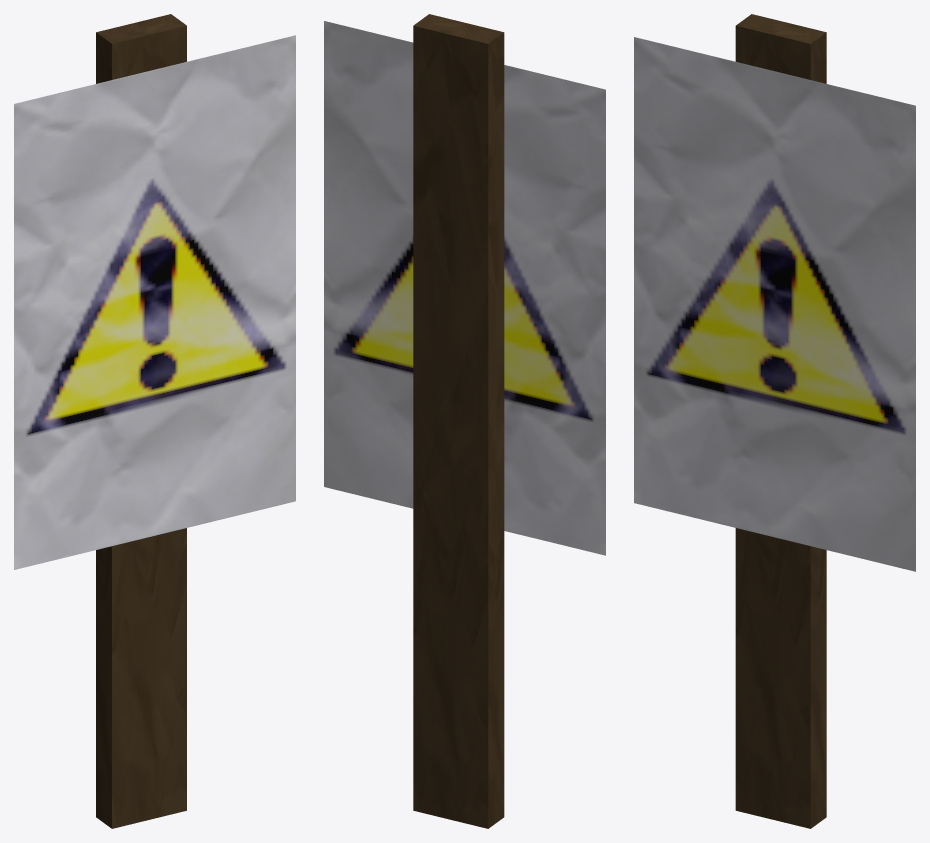
The model's file is sign.FBX.
The picture shows the model from 3 angles, left to right: view 1: azimuth 30°, elevation 25°; view 2: azimuth 150°, elevation 25°; view 3: azimuth 330°, elevation 25°; orthographic projection.
Visible parts, largest first — view 1: Box010; view 2: Box010; view 3: Box010.
Boxes of the visible parts, x1,y1,x2,y2 form: Box010: (14, 14, 295, 828); Box010: (324, 14, 605, 828); Box010: (634, 14, 915, 828).
Bounding box in the file's own units: 33.83 × 90.02 × 3.7.
2 materials, 2 textured.
